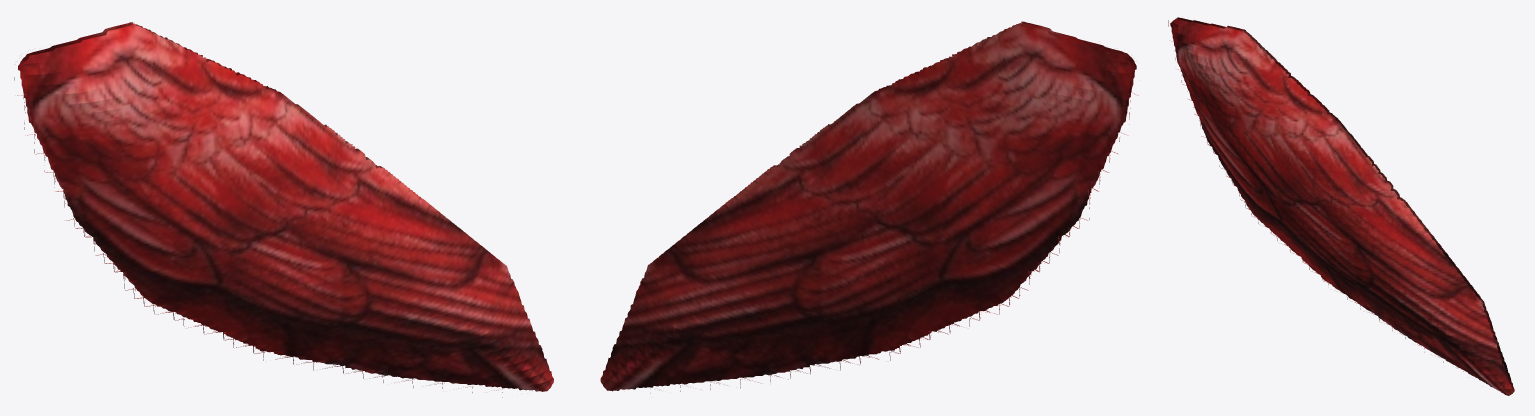
File: subject_wing_ventral.obj
The picture shows the model from 3 angles, left to right: view 1: azimuth 30°, elevation 25°; view 2: azimuth 150°, elevation 25°; view 3: azimuth 330°, elevation 25°; orthographic projection. The views are drawn at different scales.
Parts seen in each view (by area): view 1: subject_wing_ventral; view 2: subject_wing_ventral; view 3: subject_wing_ventral.
Boxes of the visible parts, box(x1,y1,x2,y2) form: subject_wing_ventral: box(14, 22, 553, 397); subject_wing_ventral: box(600, 21, 1138, 393); subject_wing_ventral: box(1168, 17, 1514, 395).
Size of the model in its own units: 1.13 by 0.9583 by 0.1042.
1 material, 1 textured.
